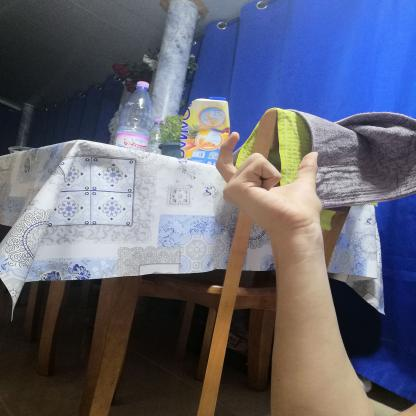NOON: (202, 120, 337, 243)
